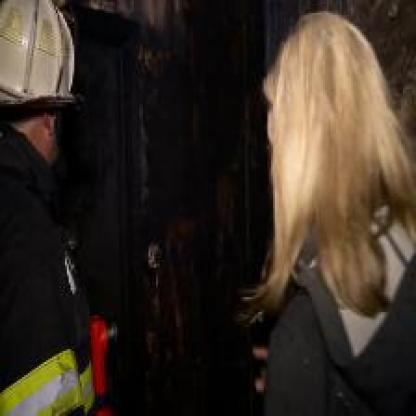other: (10, 364, 75, 410), (87, 314, 115, 412)
